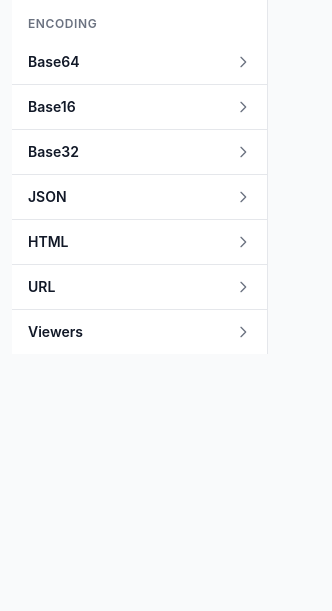
T040: Edge Case Testing › Rapid Sidebar Toggles - State Consistency › should handle simultaneous group toggles
The image size is (332, 611).
Note: Toggle all groups in quick succession
Click the button "Base64": (140, 62) [12, 40, 267, 84]
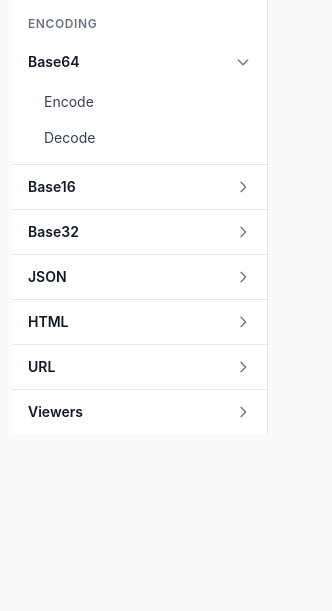
Click the button "Base16": (140, 187) [12, 165, 267, 209]
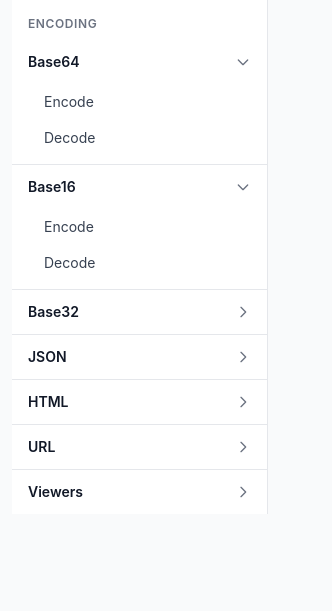
Click the button "Base32": (140, 312) [12, 290, 267, 334]
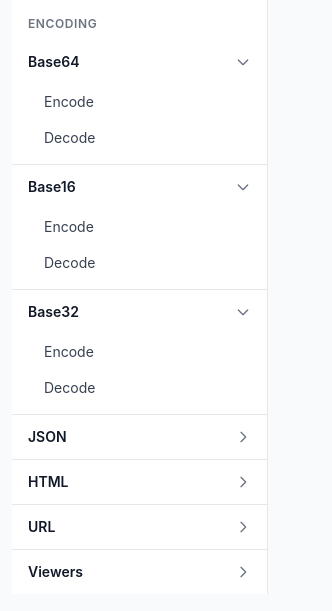
Click the button "Base64": (140, 62) [12, 40, 267, 84]
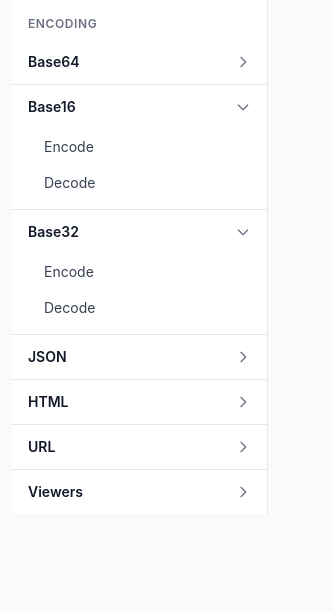
Click the button "Base16": (140, 107) [12, 85, 267, 129]
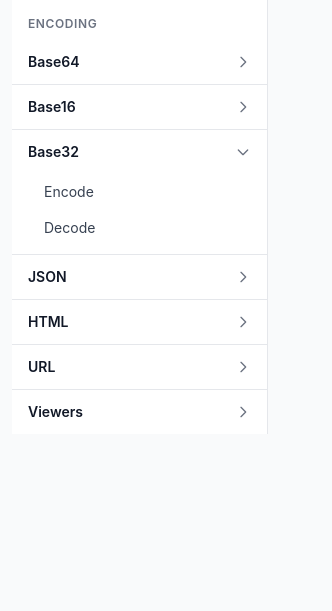
Click the button "Base32": (140, 152) [12, 130, 267, 174]
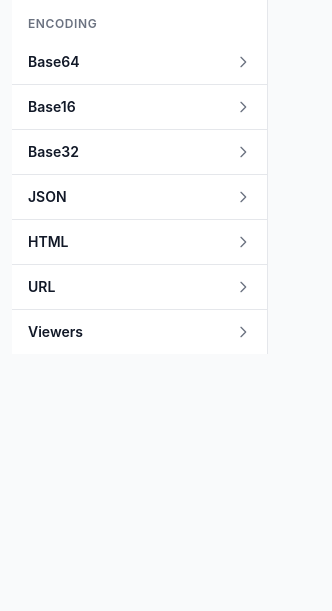
Check: no buttons "Encode" are shown
